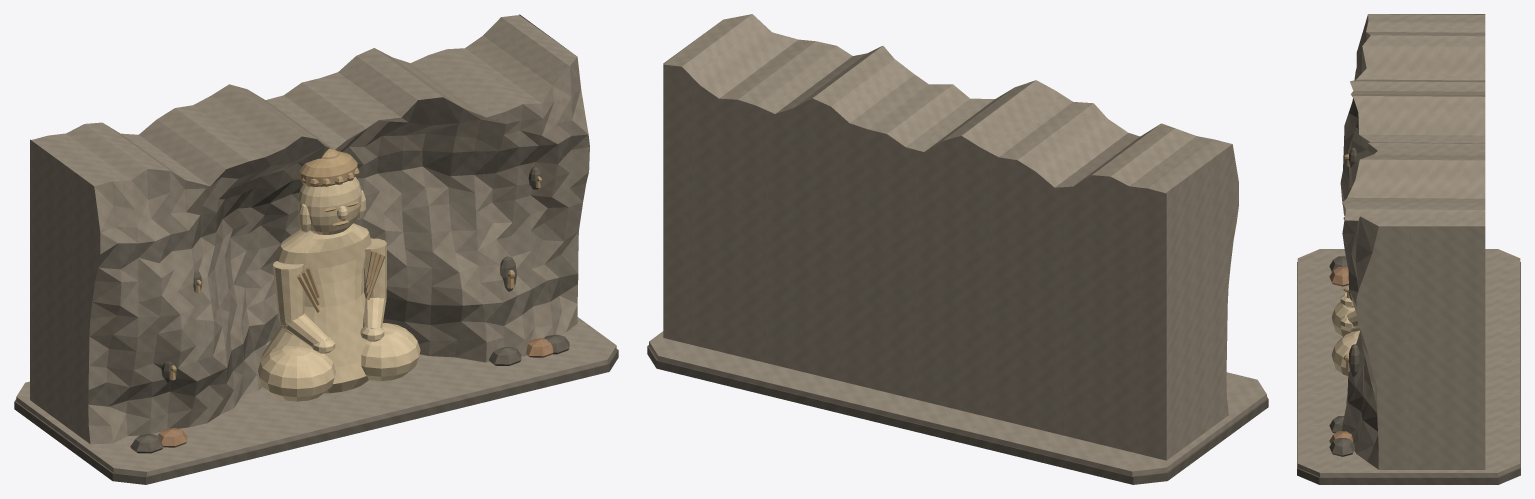
Rendered from yungang.glb.
3 views of the same model, side by side, from view 1: azimuth 30°, elevation 25°; view 2: azimuth 150°, elevation 25°; view 3: azimuth 270°, elevation 25° (orthographic). The views are drawn at different scales.
Visible parts, largest first — view 1: 云冈石窟; view 2: 云冈石窟; view 3: 云冈石窟.
Part boxes in pixels (x1,y1,x2,y2): 云冈石窟: [14, 14, 618, 484]; 云冈石窟: [647, 14, 1268, 484]; 云冈石窟: [1297, 14, 1520, 484].
Size of the model in its own units: 10.6 by 5.64 by 4.45.
Materials: 5 (5 with a texture image).
